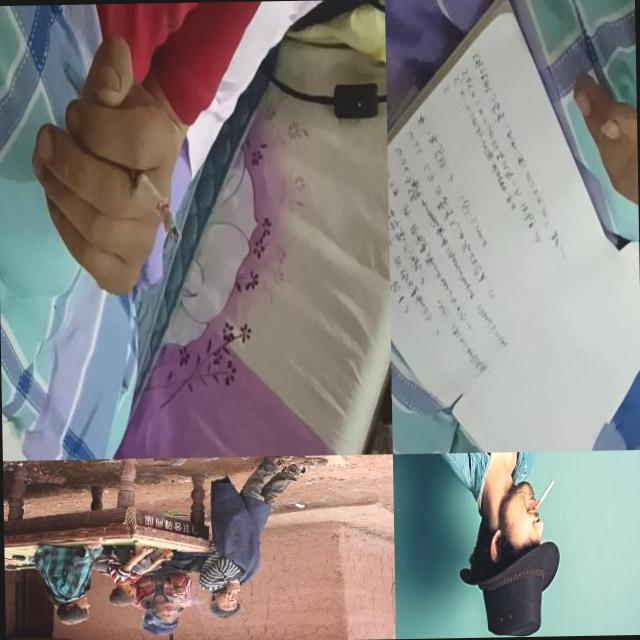smoke: (126, 162, 182, 246), (532, 478, 556, 514), (177, 594, 185, 600), (226, 594, 229, 597)
